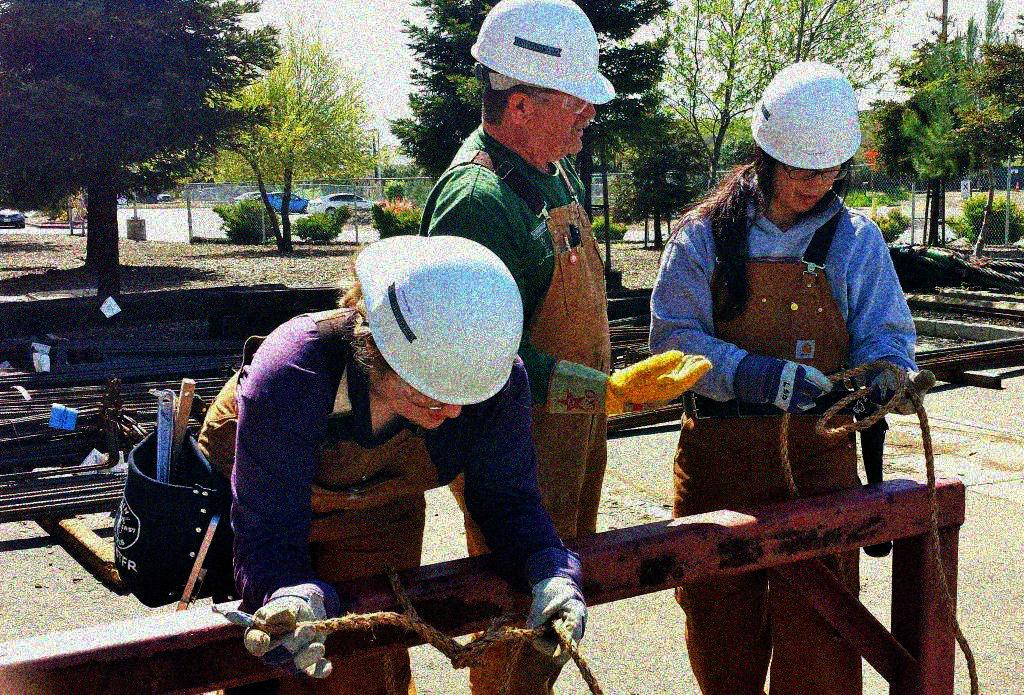helmet: (349, 225, 524, 434), (468, 3, 618, 162), (747, 56, 866, 214)
